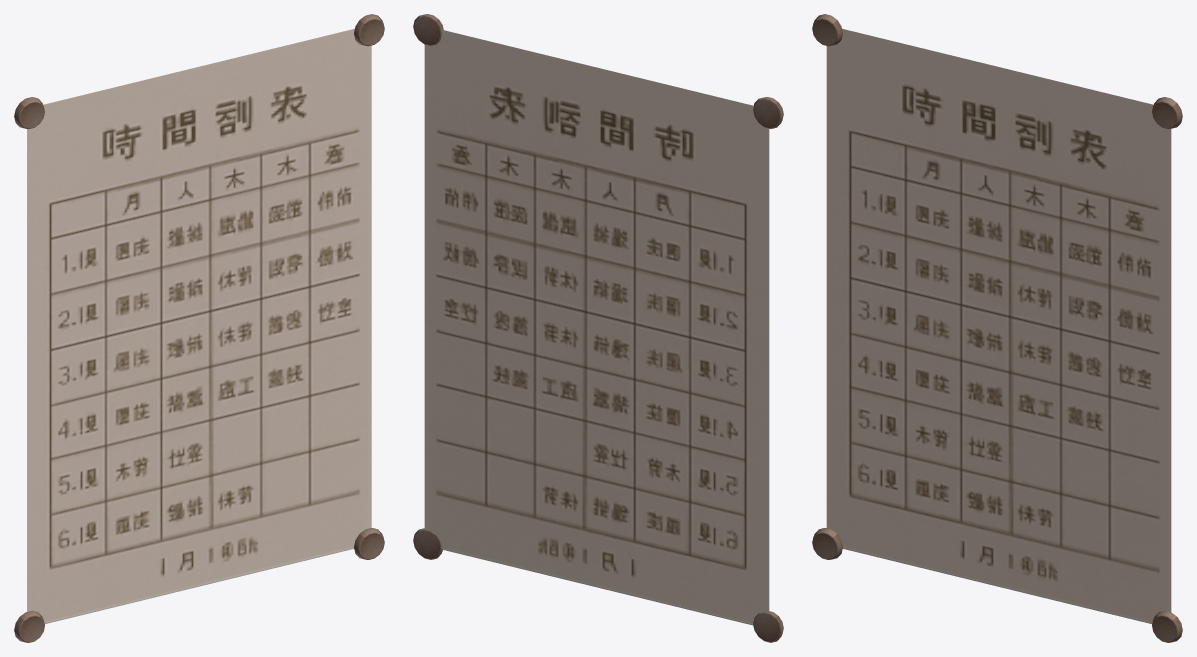
File: SM_notice_006.fbx
3 renders of one model, left to right at view 1: azimuth 30°, elevation 25°; view 2: azimuth 150°, elevation 25°; view 3: azimuth 330°, elevation 25°, orthographic.
Parts seen in each view (by area): view 1: notices11; view 2: notices11; view 3: notices11.
Part boxes in pixels (<box>): notices11: <box>14,14,384,642</box>; notices11: <box>413,14,783,642</box>; notices11: <box>812,14,1182,642</box>.
Size of the model in its own units: 19.62 by 27.6 by 0.4045.
Materials: 1 (1 with a texture image).
